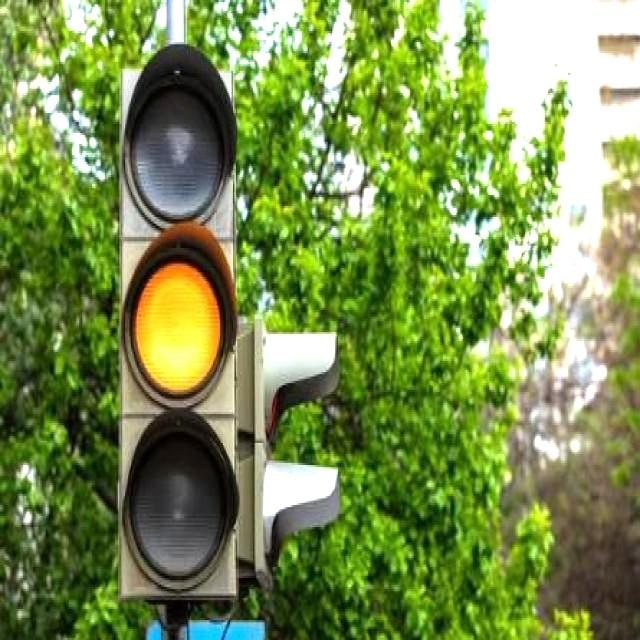Yellow: (122, 69, 238, 599)
